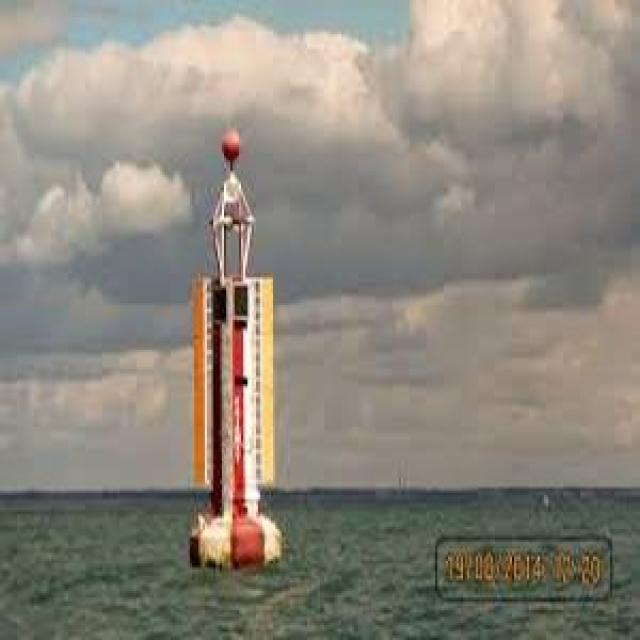buoy: (168, 128, 300, 568)
